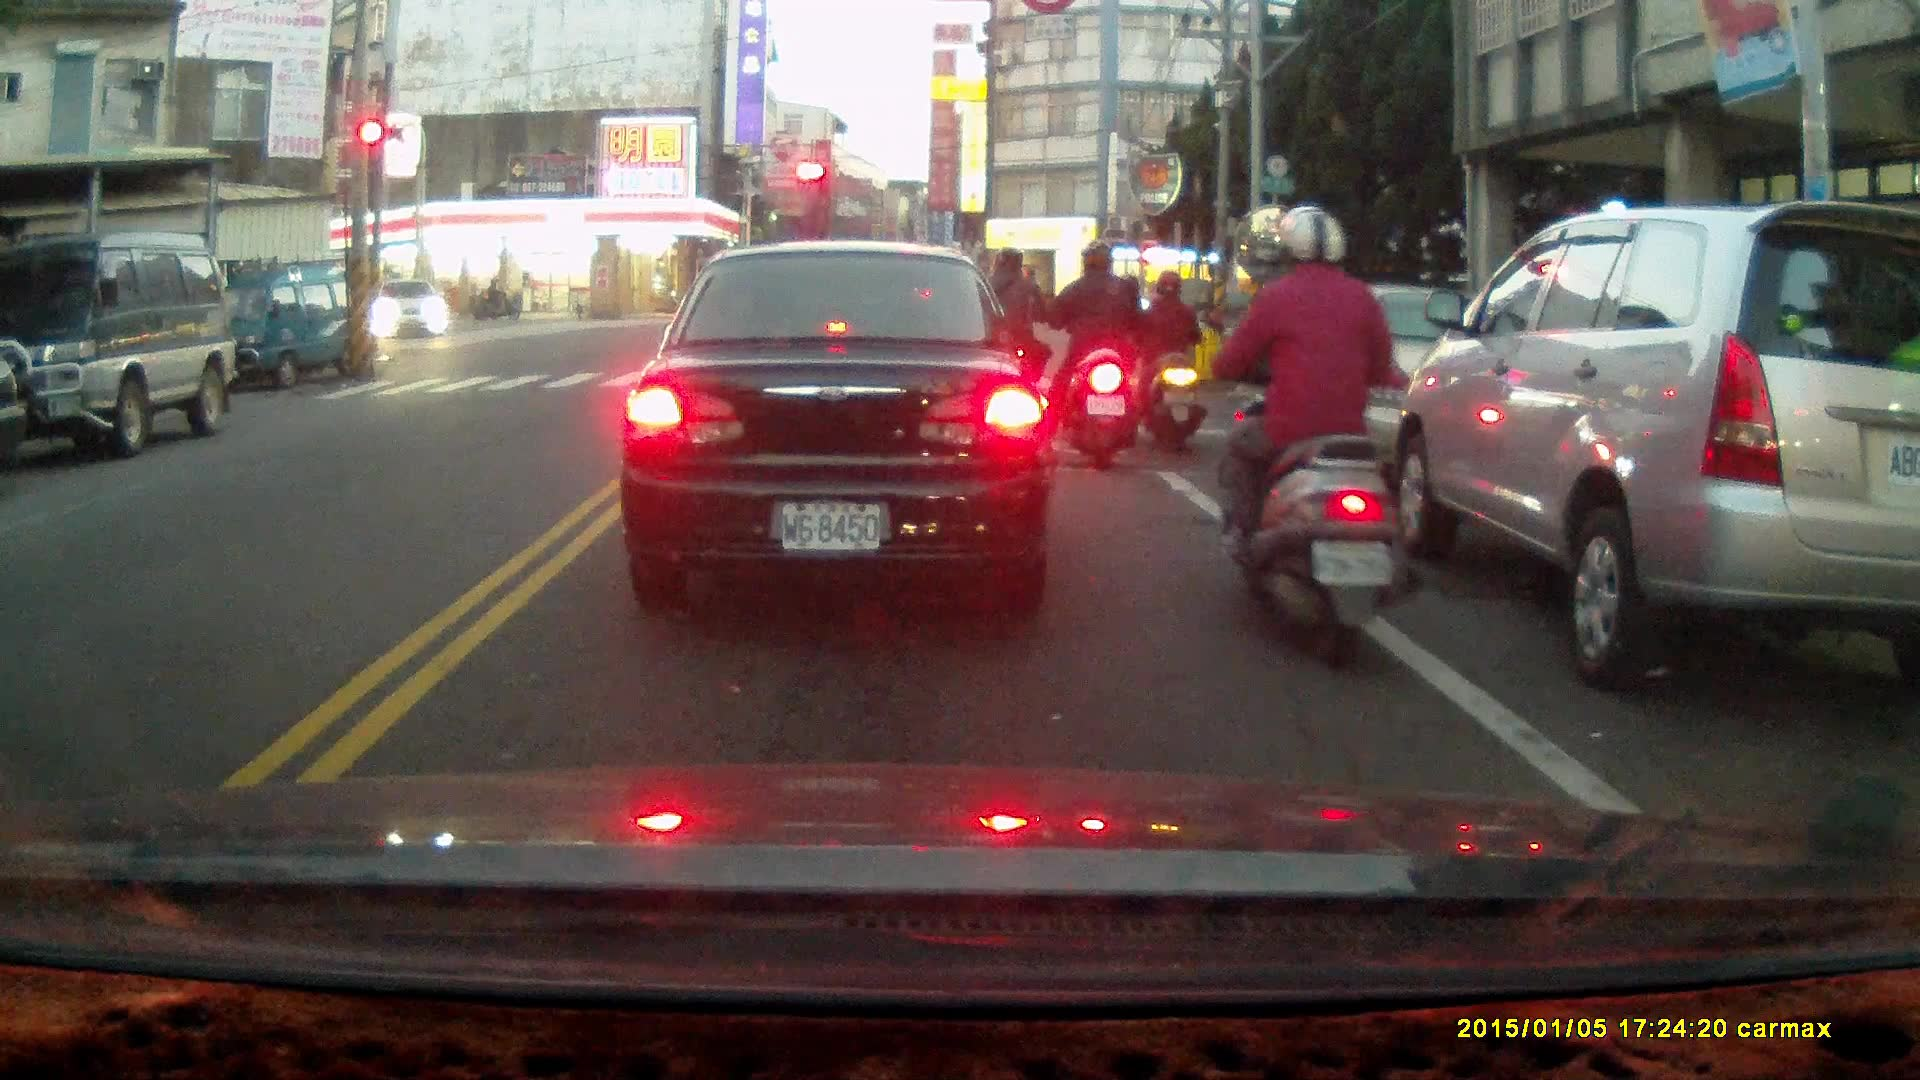rider: (1214, 200, 1430, 678), (1048, 242, 1141, 468), (960, 239, 1057, 431), (1134, 269, 1204, 450), (473, 278, 517, 319)
vehicle: (1387, 202, 1917, 696), (617, 243, 1061, 606), (1, 234, 239, 458), (193, 256, 380, 393), (372, 277, 451, 343)
